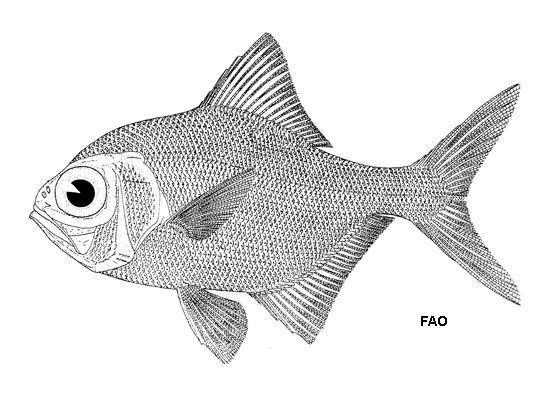fish: (30, 33, 523, 362)
